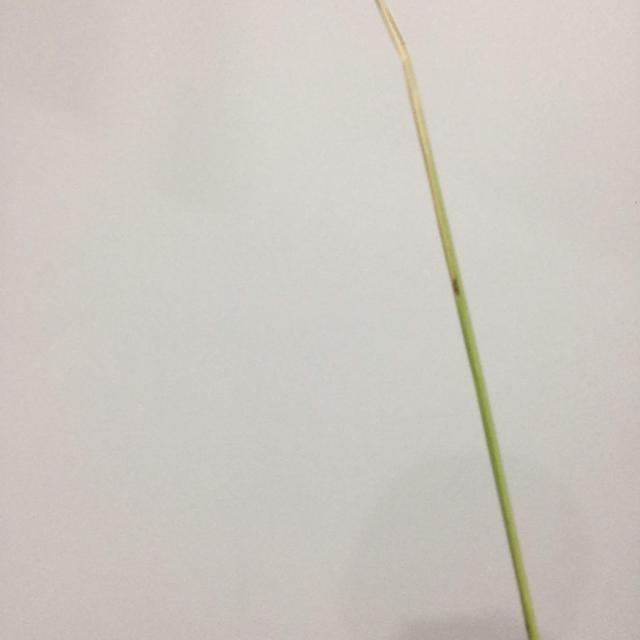brownspots: (448, 270, 467, 302)
